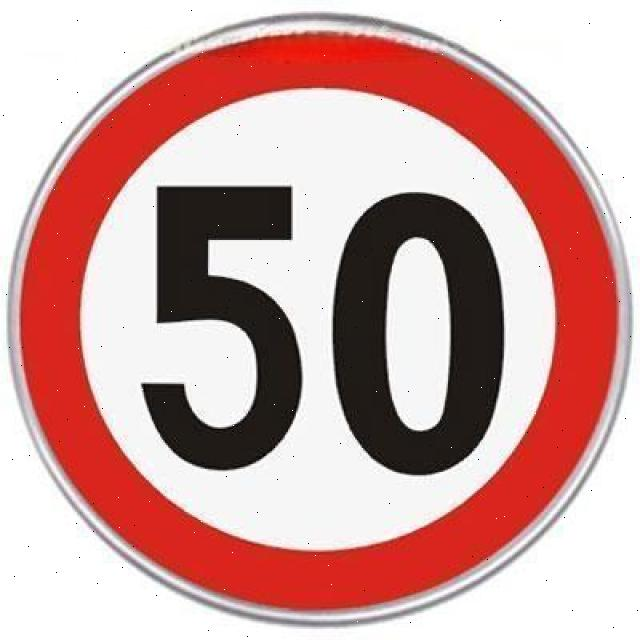speed limit 50: (7, 12, 635, 626)
